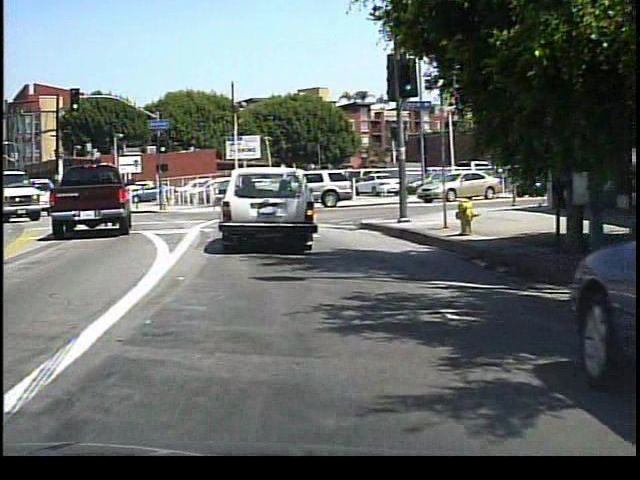person: (396, 164, 415, 203)
